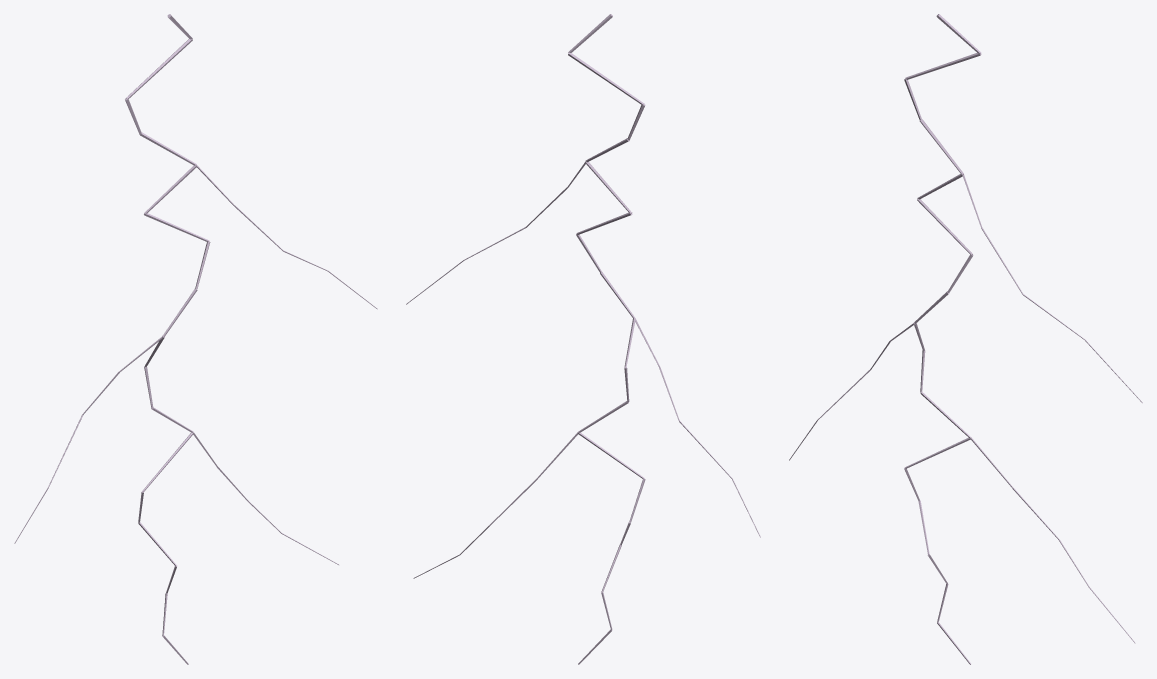
Rendered from lightning42b_2.glb.
The picture shows the model from 3 angles, left to right: view 1: azimuth 30°, elevation 25°; view 2: azimuth 150°, elevation 25°; view 3: azimuth 330°, elevation 25°; orthographic projection.
Size of the model in its own units: 234 by 409 by 41.33.
